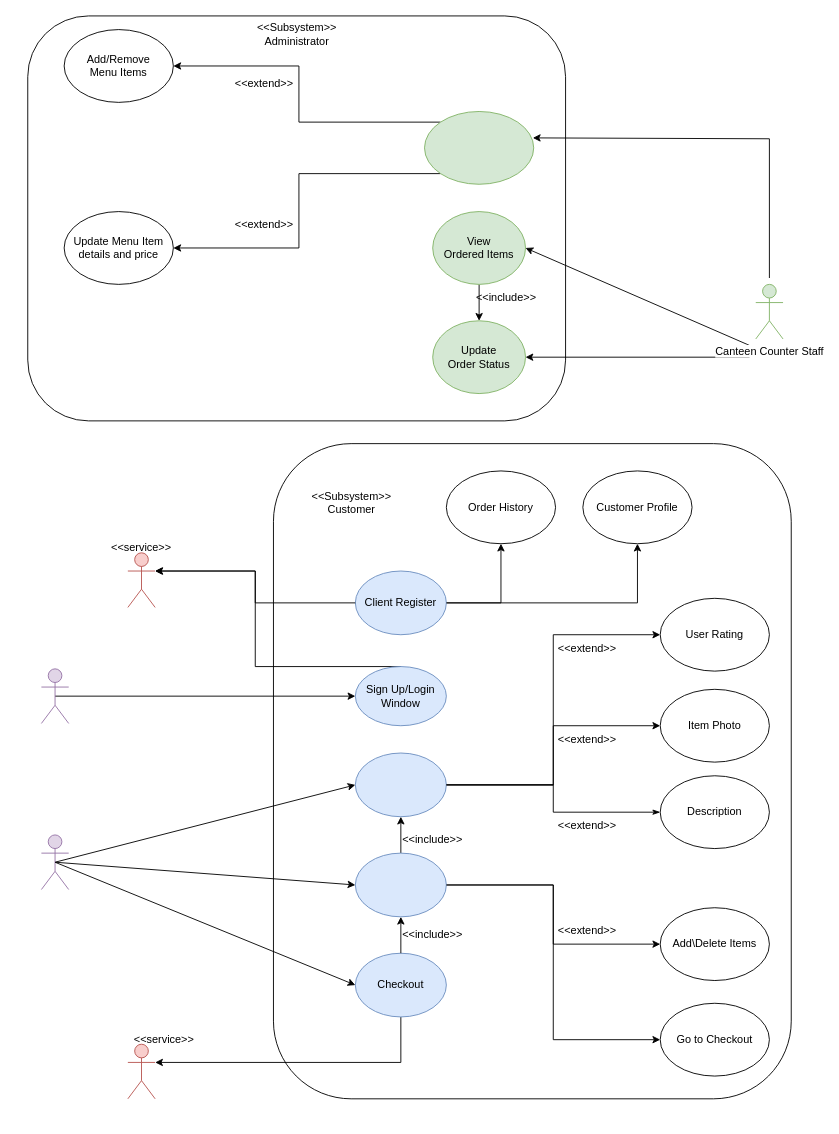
This 839x1134 diagram has some shape labels left out. The centre of each missing label's shape, as x and y in pixels:
Authentication: (x=141, y=579)
Menu Customization: (x=479, y=147)
New User: (x=54, y=695)
Order Cart: (x=400, y=884)
Payment Service/UPI: (x=141, y=1071)
Registered User: (x=54, y=862)
View Items: (x=400, y=784)
